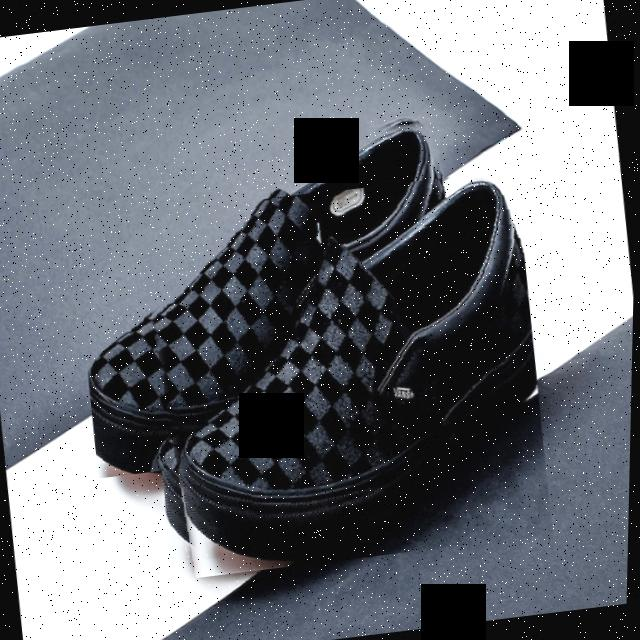shoe: (129, 167, 561, 580), (61, 110, 476, 478)
